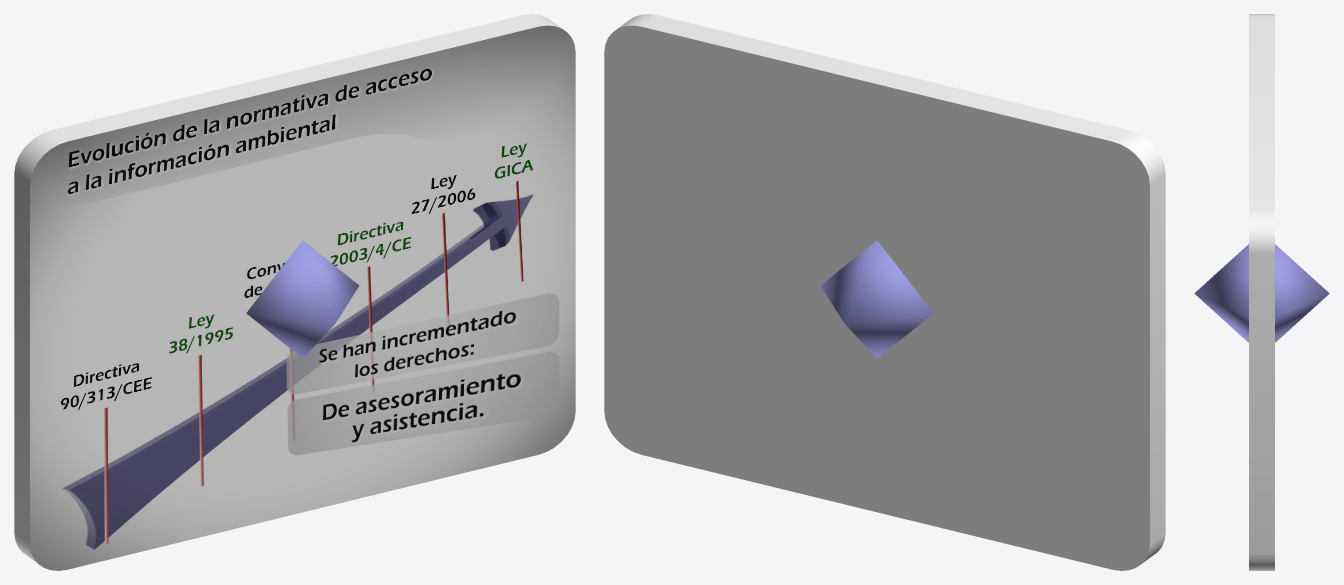
The model's file is tarjeta.dae.
The picture shows the model from 3 angles, left to right: view 1: azimuth 30°, elevation 25°; view 2: azimuth 150°, elevation 25°; view 3: azimuth 270°, elevation 25°; orthographic projection. The views are drawn at different scales.
Parts seen in each view (by area): view 1: perfil_tarjeta, tarjeta_MAIN_01; view 2: perfil_tarjeta, tarjeta_MAIN_01; view 3: perfil_tarjeta, tarjeta_MAIN_01.
Part boxes in pixels (x1,y1,x2,y2): perfil_tarjeta: (14, 14, 575, 570); tarjeta_MAIN_01: (246, 240, 359, 358); perfil_tarjeta: (604, 14, 1165, 570); tarjeta_MAIN_01: (820, 240, 933, 358); perfil_tarjeta: (1249, 14, 1274, 570); tarjeta_MAIN_01: (1194, 244, 1329, 342).
Bounding box in the file's own units: 29.77 × 7.67 × 22.33.
3 materials, 1 textured.
